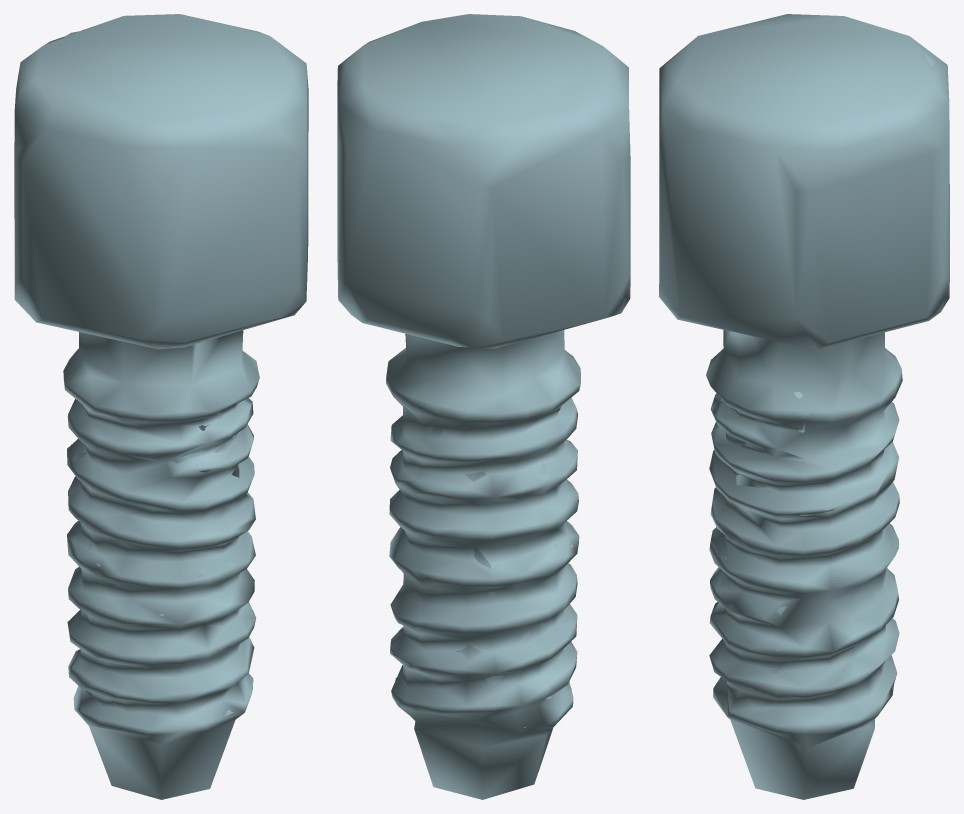
Rendered from gen3d-bolt-lod1.glb.
3 renders of one model, left to right at view 1: azimuth 30°, elevation 25°; view 2: azimuth 150°, elevation 25°; view 3: azimuth 270°, elevation 25°, orthographic.
Visible parts, largest first — view 1: part_0; view 2: part_0; view 3: part_0.
Part boxes in pixels (x1=…): part_0: x1=14, y1=14, x2=308, y2=799; part_0: x1=337, y1=14, x2=630, y2=799; part_0: x1=659, y1=14, x2=949, y2=799.
Bounding box in the file's own units: 0.4222 × 0.9988 × 0.3717.
